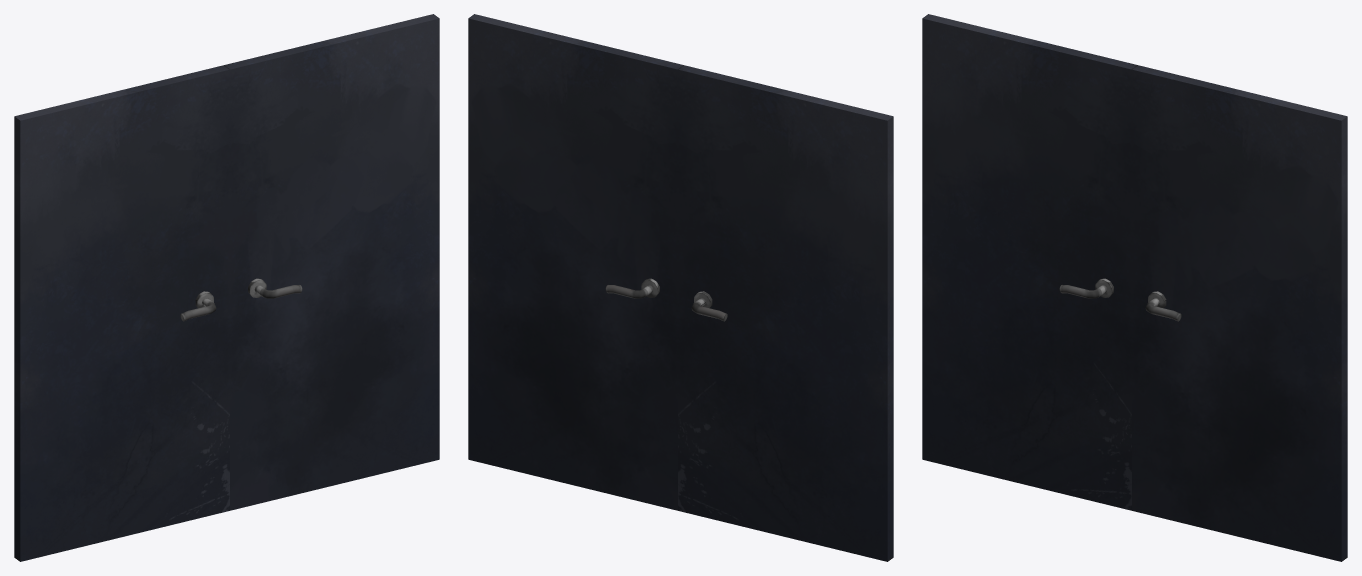
File: DoubleDoor_Asset.fbx
The picture shows the model from 3 angles, left to right: view 1: azimuth 30°, elevation 25°; view 2: azimuth 150°, elevation 25°; view 3: azimuth 330°, elevation 25°; orthographic projection.
Visible parts, largest first — view 1: DoubleDoorL, DoubleDoorR; view 2: DoubleDoorL, DoubleDoorR; view 3: DoubleDoorR, DoubleDoorL.
Part boxes in pixels (x1,y1,x2,y2): DoubleDoorL: (14,65,229,561); DoubleDoorR: (224,14,439,510); DoubleDoorL: (678,65,893,561); DoubleDoorR: (468,14,683,510); DoubleDoorR: (1132,65,1347,561); DoubleDoorL: (922,14,1137,510).
Size of the model in its own units: 199 by 26.87 by 200.
1 material, 1 textured.
